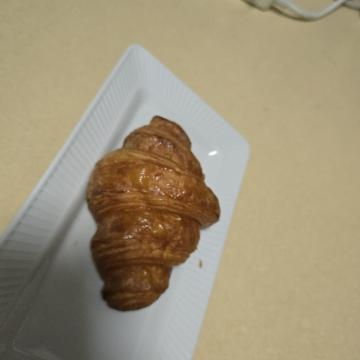croissant: (107, 130, 327, 288)
